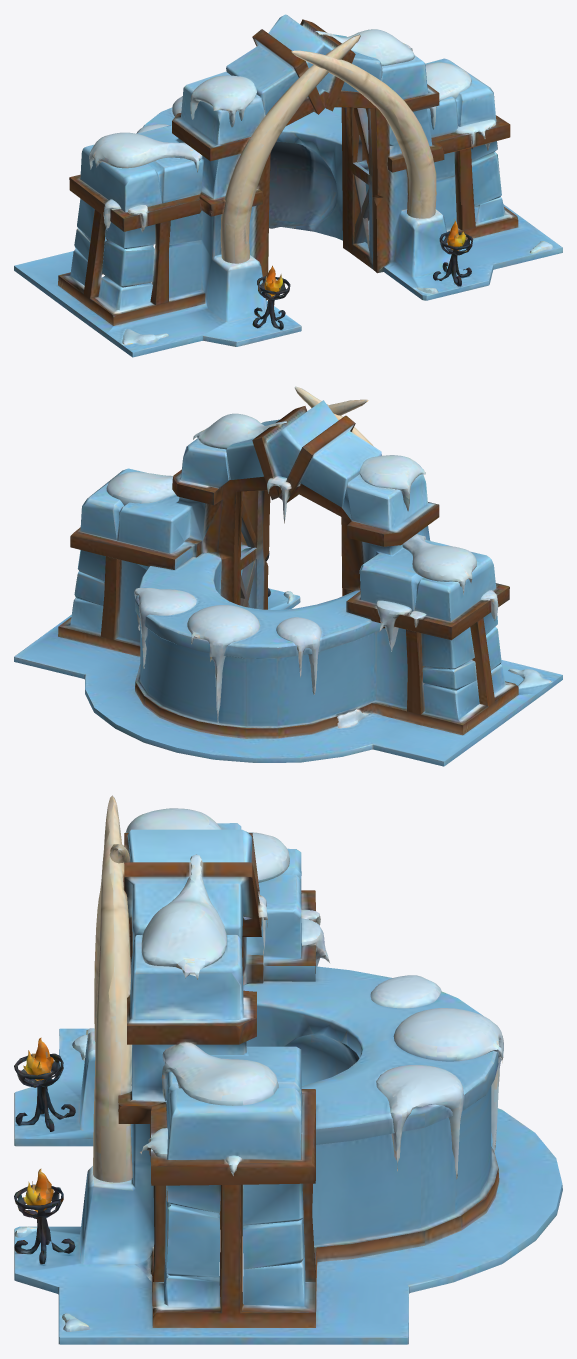
Rendered from tundra_porton.glb.
3 views of the same model, one above another, from view 1: azimuth 30°, elevation 25°; view 2: azimuth 150°, elevation 25°; view 3: azimuth 270°, elevation 25° (orthographic). The views are drawn at different scales.
Parts seen in each view (by area): view 1: tripo_node_d46dfe0f-6c67-4d44-83da-b3178f55f943; view 2: tripo_node_d46dfe0f-6c67-4d44-83da-b3178f55f943; view 3: tripo_node_d46dfe0f-6c67-4d44-83da-b3178f55f943.
Part boxes in pixels (x1=…): tripo_node_d46dfe0f-6c67-4d44-83da-b3178f55f943: x1=14, y1=14, x2=562, y2=357; tripo_node_d46dfe0f-6c67-4d44-83da-b3178f55f943: x1=14, y1=386, x2=562, y2=766; tripo_node_d46dfe0f-6c67-4d44-83da-b3178f55f943: x1=14, y1=795, x2=562, y2=1344.
Size of the model in its own units: 0.9995 by 0.5535 by 0.7505.
1 material, 1 textured.
